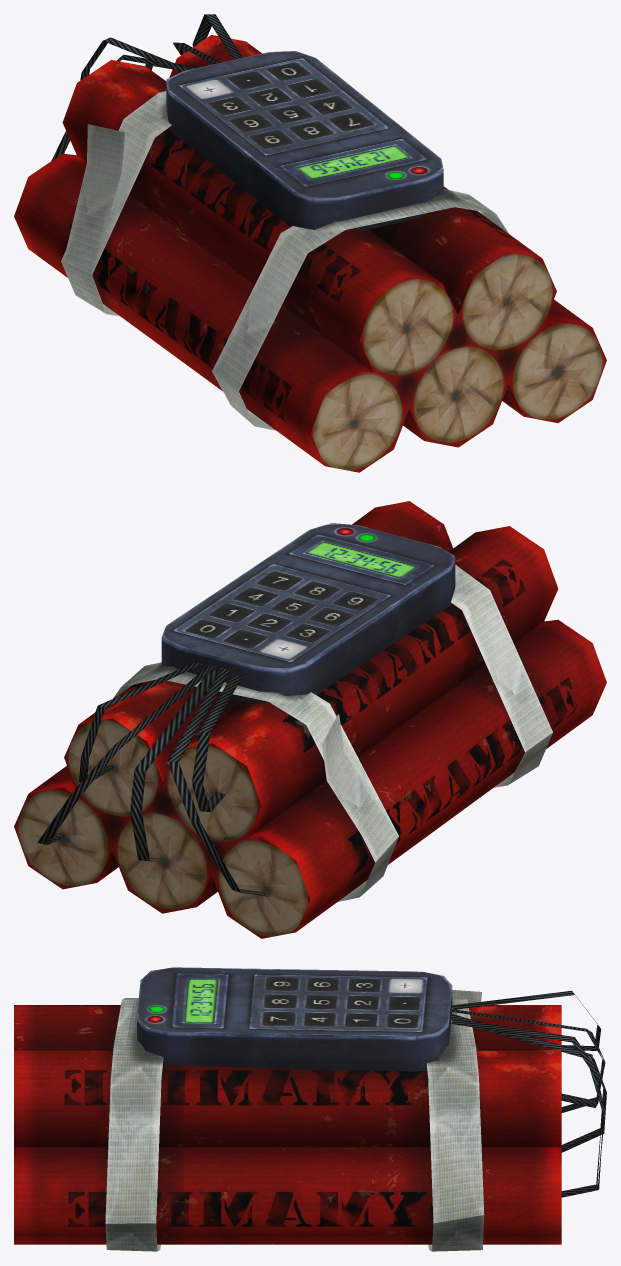
Rendered from dynamite.fbx.
3 renders of one model, top to bottom at view 1: azimuth 30°, elevation 25°; view 2: azimuth 150°, elevation 25°; view 3: azimuth 270°, elevation 25°, orthographic. The views are drawn at different scales.
Parts seen in each view (by area): view 1: dynamite; view 2: dynamite; view 3: dynamite.
Part boxes in pixels (x1=…): dynamite: x1=14, y1=14, x2=606, y2=472; dynamite: x1=14, y1=501, x2=606, y2=938; dynamite: x1=14, y1=967, x2=606, y2=1251.
Bounding box in the file's own units: 2.94 × 1.94 × 5.19.
